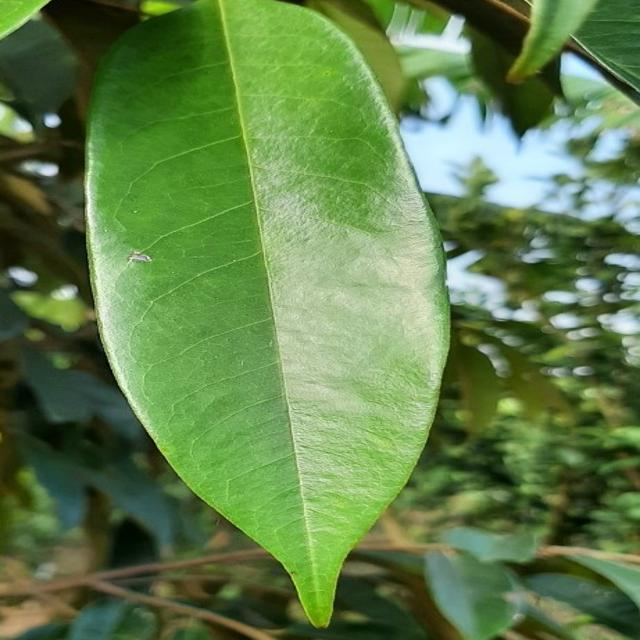No Disease: (73, 0, 458, 635)
